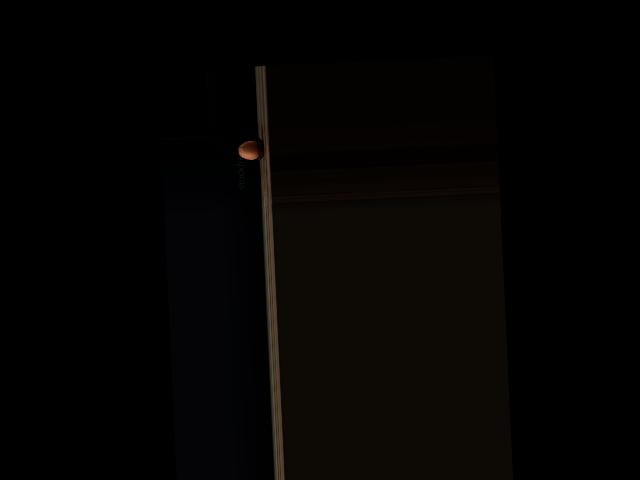egg: (238, 139, 259, 159)
